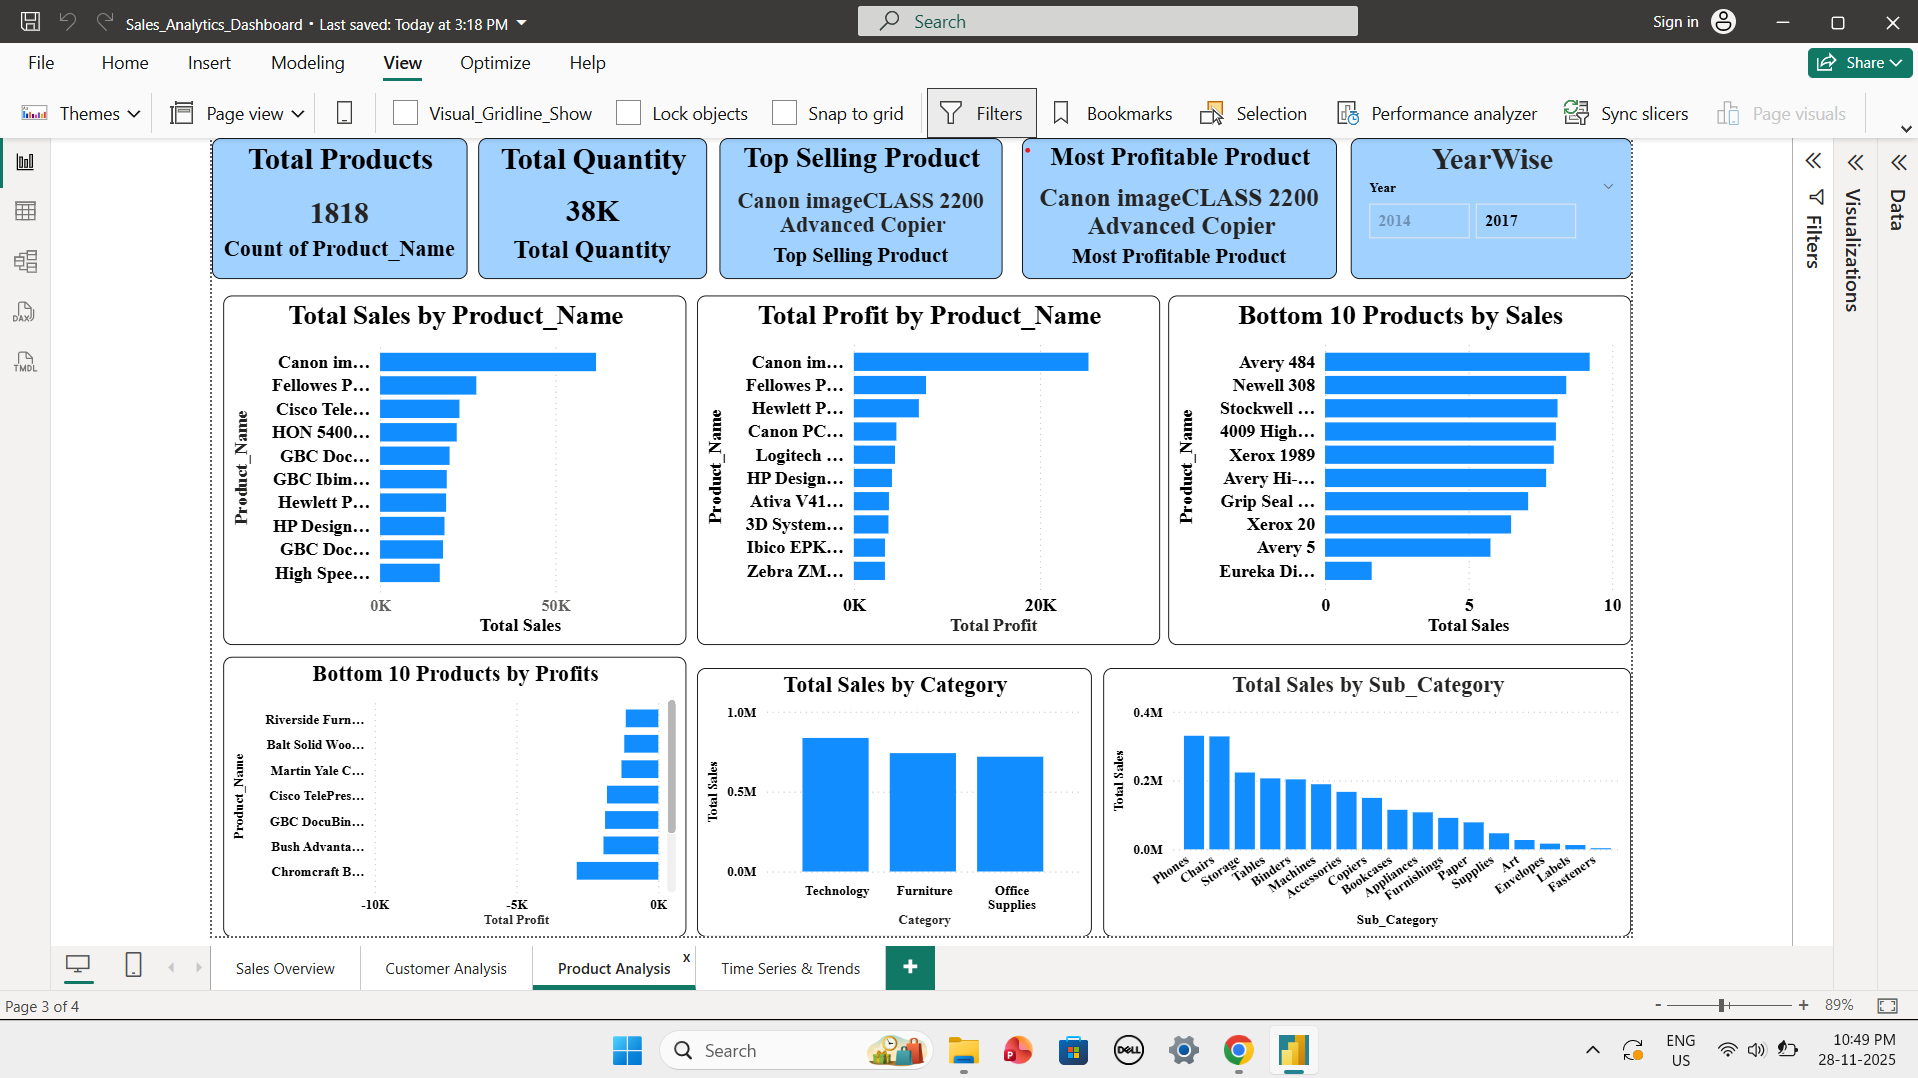

The page's visual inventory and layout, read from the dashboard file:
{"tool":"powerbi","page":{"name":"Product Analysis","canvas":[1280,720],"ordinal":2},"visuals":[{"type":"card","title":"Total Products","fields":{"Values":["Count(DimProduct.Product_Name)"]},"box":[0,0,230,127.5],"z":0},{"type":"card","title":"Total Quantity","fields":{"Values":["_Measures.Total Quantity"]},"box":[240,0,206.2,127.5],"z":1000},{"type":"card","title":"Top Selling Product","fields":{"Values":["_Measures.Top Selling Product"]},"box":[457.5,0,255,127.5],"z":2000},{"type":"card","title":"Most Profitable Product","fields":{"Values":["_Measures.Most Profitable Product"]},"box":[730,0,283.8,127.5],"z":3000},{"type":"clusteredBarChart","fields":{"Category":["DimProduct.Product_Name"],"Y":["_Measures.Total Sales"]},"box":[10,142.5,417.5,315],"z":4000},{"type":"clusteredBarChart","fields":{"Category":["DimProduct.Product_Name"],"Y":["_Measures.Total Profit"]},"box":[437.5,142.5,417.5,315],"z":5000},{"type":"clusteredColumnChart","fields":{"Category":["DimProduct.Category"],"Y":["_Measures.Total Sales"]},"box":[437.5,477.5,356.2,242.5],"z":6000},{"type":"clusteredColumnChart","fields":{"Category":["DimProduct.Sub_Category"],"Y":["_Measures.Total Sales"]},"box":[803.8,477.5,476.2,242.5],"z":7000},{"type":"clusteredBarChart","title":"Bottom 10 Products by Sales","fields":{"Category":["DimProduct.Product_Name"],"Y":["_Measures.Total Sales"]},"box":[862.5,142.5,417.5,315],"z":8000},{"type":"clusteredBarChart","title":"Bottom 10 Products by Profits","fields":{"Category":["DimProduct.Product_Name"],"Y":["_Measures.Total Profit"]},"box":[10,467.5,417.5,252.5],"z":9000},{"type":"slicer","title":"YearWise","fields":{"Values":["DimDate.Year"]},"box":[1026.2,0,253.8,127.5],"z":10000}]}

Visuals, with their boxes on the page's 1280x720 design canvas (x1, y1, x2, y2). These are canvas units, not pixel positions in the 1918x1078 screenshot, which may show the page scaled, cropped or inside an application window:
"Total Products" card: [x1=0, y1=0, x2=230, y2=128]
"Total Quantity" card: [x1=240, y1=0, x2=446, y2=128]
"Top Selling Product" card: [x1=458, y1=0, x2=712, y2=128]
"Most Profitable Product" card: [x1=730, y1=0, x2=1014, y2=128]
clusteredBarChart - DimProduct.Product_Name x _Measures.Total Sales: [x1=10, y1=142, x2=428, y2=458]
clusteredBarChart - DimProduct.Product_Name x _Measures.Total Profit: [x1=438, y1=142, x2=855, y2=458]
clusteredColumnChart - DimProduct.Category x _Measures.Total Sales: [x1=438, y1=478, x2=794, y2=720]
clusteredColumnChart - DimProduct.Sub_Category x _Measures.Total Sales: [x1=804, y1=478, x2=1280, y2=720]
"Bottom 10 Products by Sales" clusteredBarChart: [x1=862, y1=142, x2=1280, y2=458]
"Bottom 10 Products by Profits" clusteredBarChart: [x1=10, y1=468, x2=428, y2=720]
"YearWise" slicer: [x1=1026, y1=0, x2=1280, y2=128]
